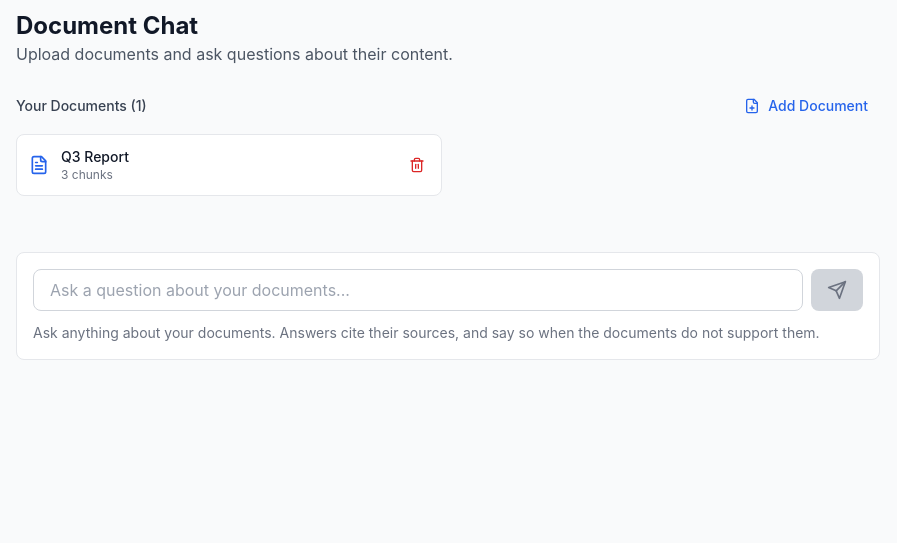
ChatPage: asking a question › explains a spending limit without offering a pointless retry
Type "How did revenue change?" into the field named "Your question".
click(418, 290); type("How did revenue change?")  # box [33,269,803,311]
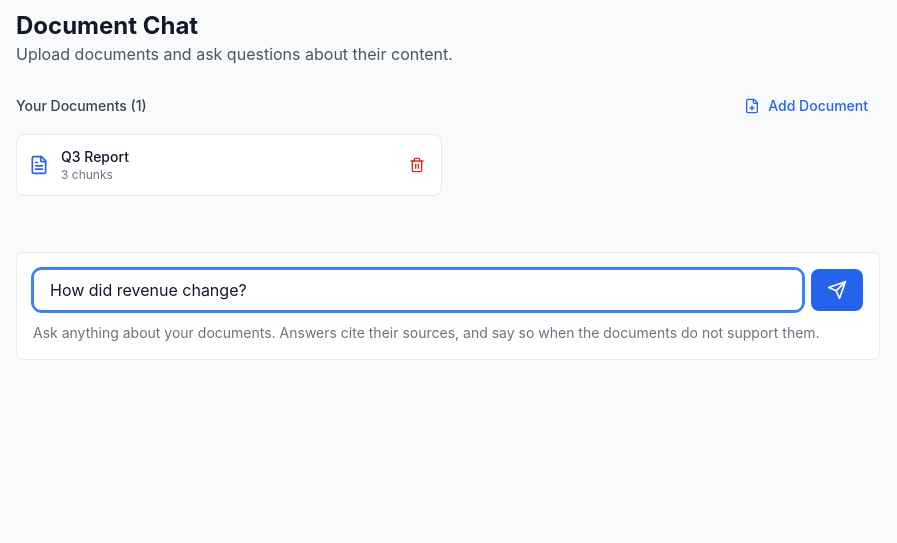
Click the button named "send question".
click(837, 290)  # box [811,269,863,311]
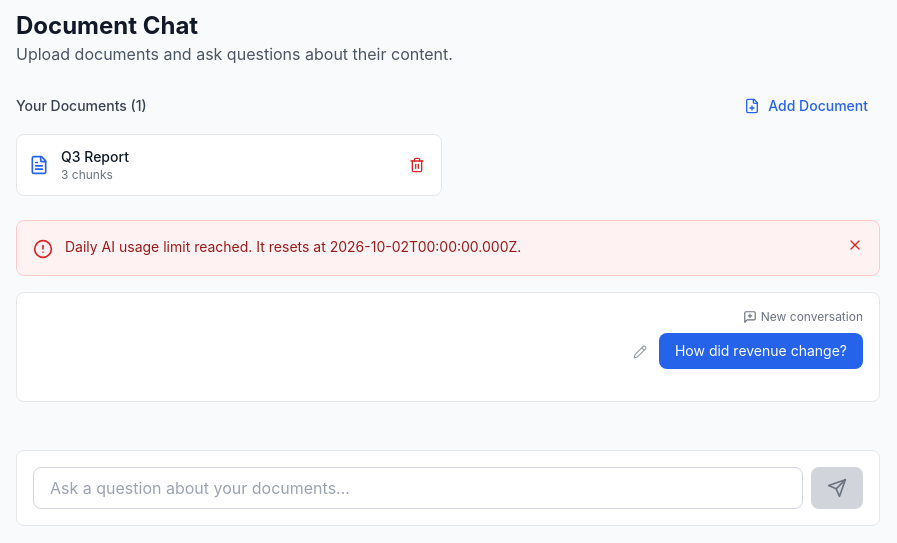
Check: the message "Daily AI usage limit reached. It resets at 2026-10-02T00:00:00.000Z." is shown, box [16,220,880,276]
